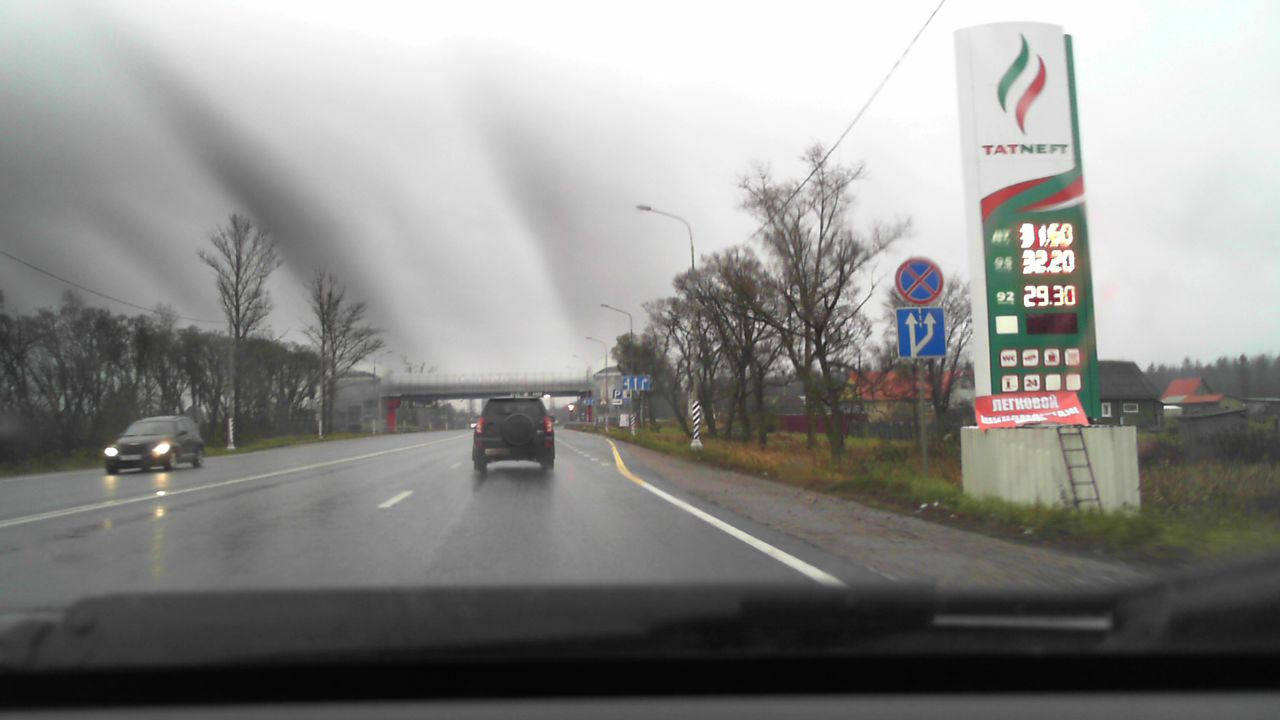No Parking: (895, 256, 943, 304)
